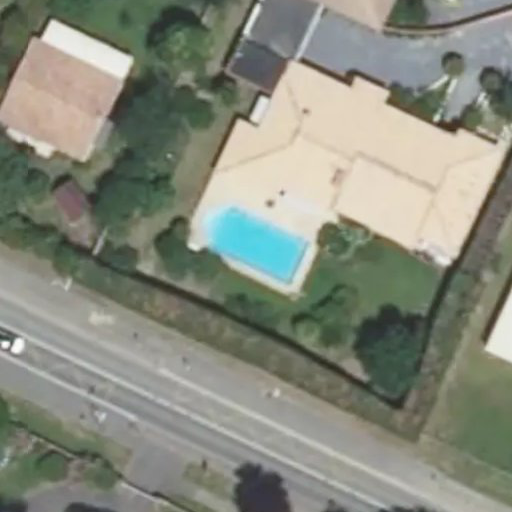pool: (202, 205, 313, 291)
